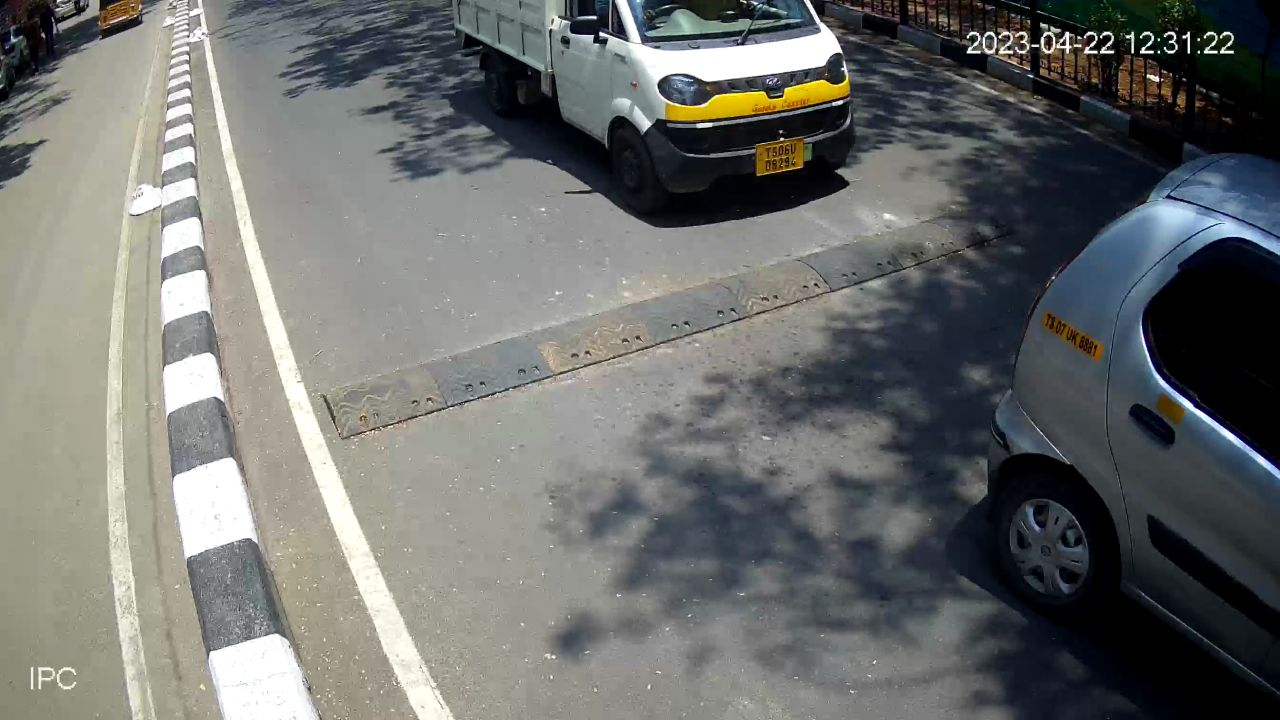license_plate: (748, 130, 810, 185)
